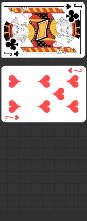7H: (5, 113, 21, 120)
JC: (3, 50, 21, 57)
